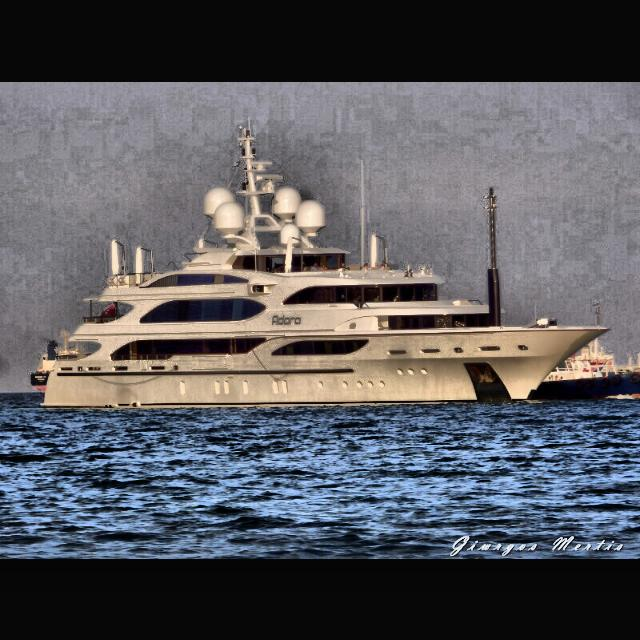yacht: (28, 117, 614, 411)
